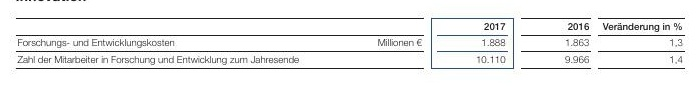table: (0, 0, 697, 89)
